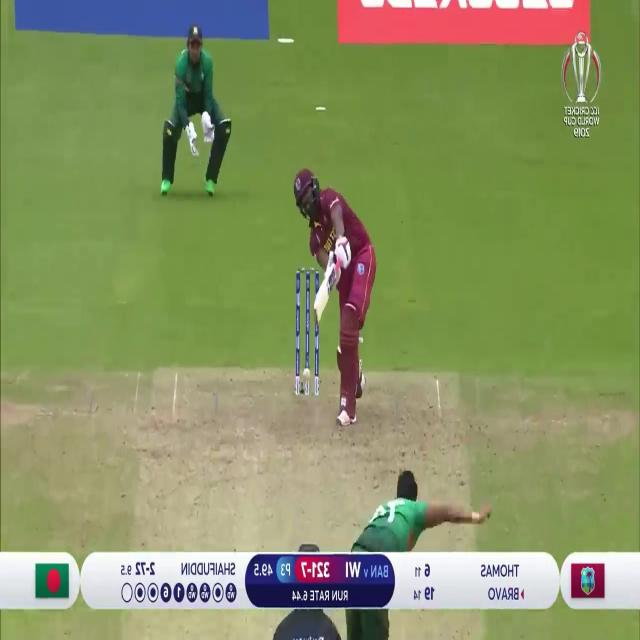ball: (302, 364, 312, 379)
